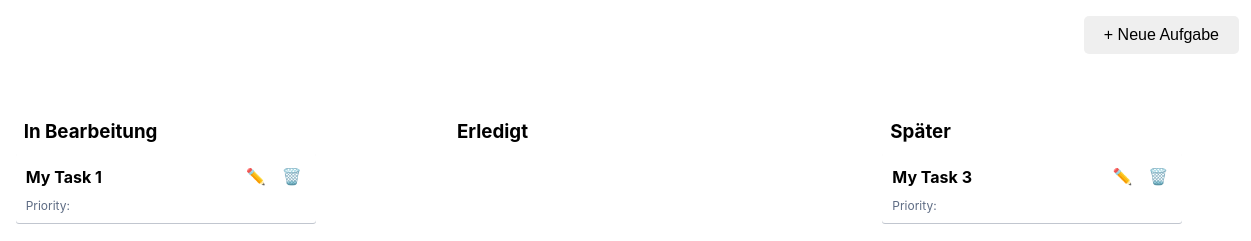
Test: General Board functionality › deletes a task when delete button is clicked and confirmed
The image size is (1251, 241).
Expected: the heading "My Task 1" is shown, [26,166,102,186]
# Find the delete button for "Task 1"
Click the button with class "icon-button" below "In Bearbeitung".
click(292, 176)  # box [278,163,306,190]
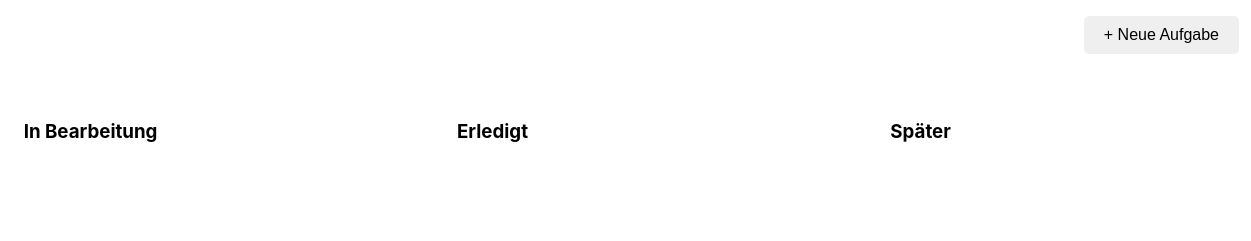
Result: the button "My Task 1" is gone
